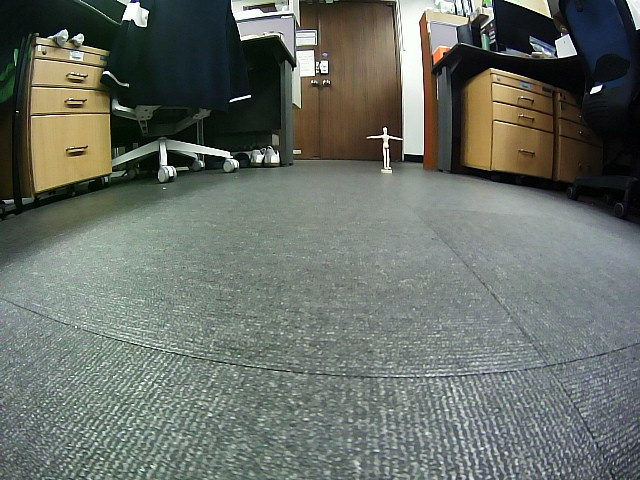person: (365, 127, 403, 169)
